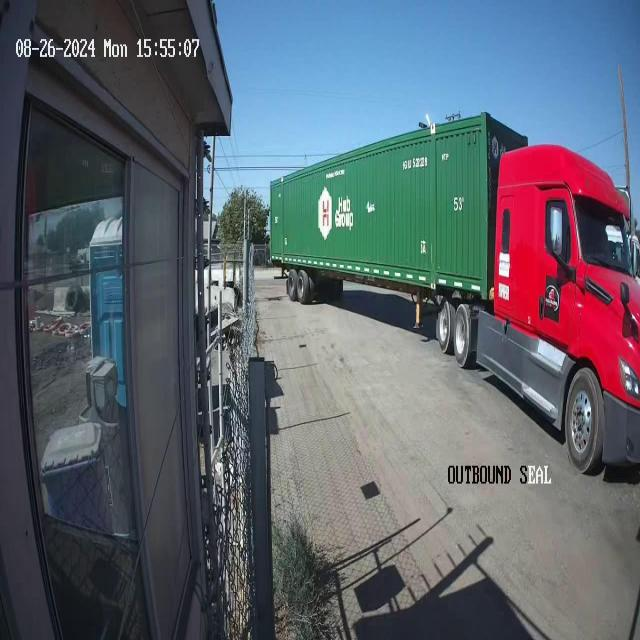TRUCK_IN: (268, 81, 640, 477)
